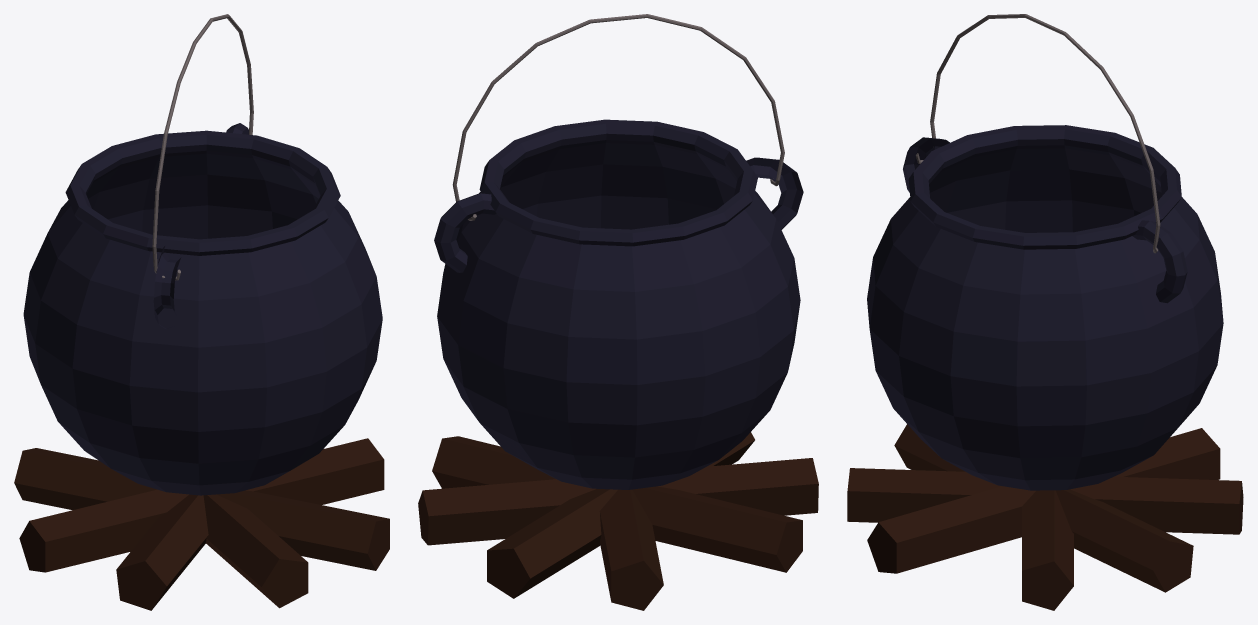
Rendered from Cauldron.fbx.
The picture shows the model from 3 angles, left to right: view 1: azimuth 30°, elevation 25°; view 2: azimuth 150°, elevation 25°; view 3: azimuth 270°, elevation 25°; orthographic projection.
Parts seen in each view (by area): view 1: Kettle, Firelogs, Hanger; view 2: Kettle, Firelogs, Hanger; view 3: Kettle, Firelogs, Hanger.
Part boxes in pixels (left/top/right/bottom): Kettle: left=23, top=123, right=382, bottom=495; Firelogs: left=14, top=438, right=389, bottom=610; Hanger: left=152, top=14, right=253, bottom=280; Kettle: left=434, top=119, right=803, bottom=489; Firelogs: left=418, top=432, right=818, bottom=610; Hanger: left=452, top=14, right=784, bottom=220; Kettle: left=867, top=125, right=1223, bottom=490; Firelogs: left=847, top=424, right=1243, bottom=610; Hanger: left=916, top=14, right=1160, bottom=253.
Size of the model in its own units: 150 by 213 by 151.
